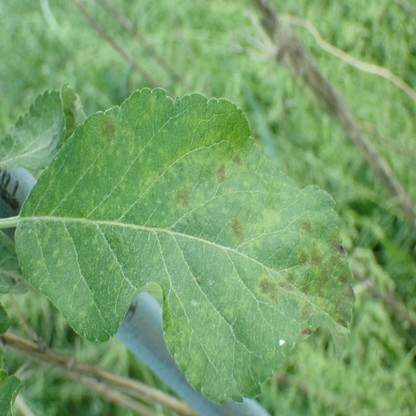scab: (298, 221, 354, 330), (137, 134, 227, 193), (164, 305, 201, 386), (257, 267, 298, 301), (222, 272, 249, 315), (170, 181, 203, 213), (259, 175, 284, 208), (98, 113, 117, 156), (249, 208, 280, 229), (229, 216, 242, 241), (231, 151, 246, 172), (43, 223, 50, 246)
